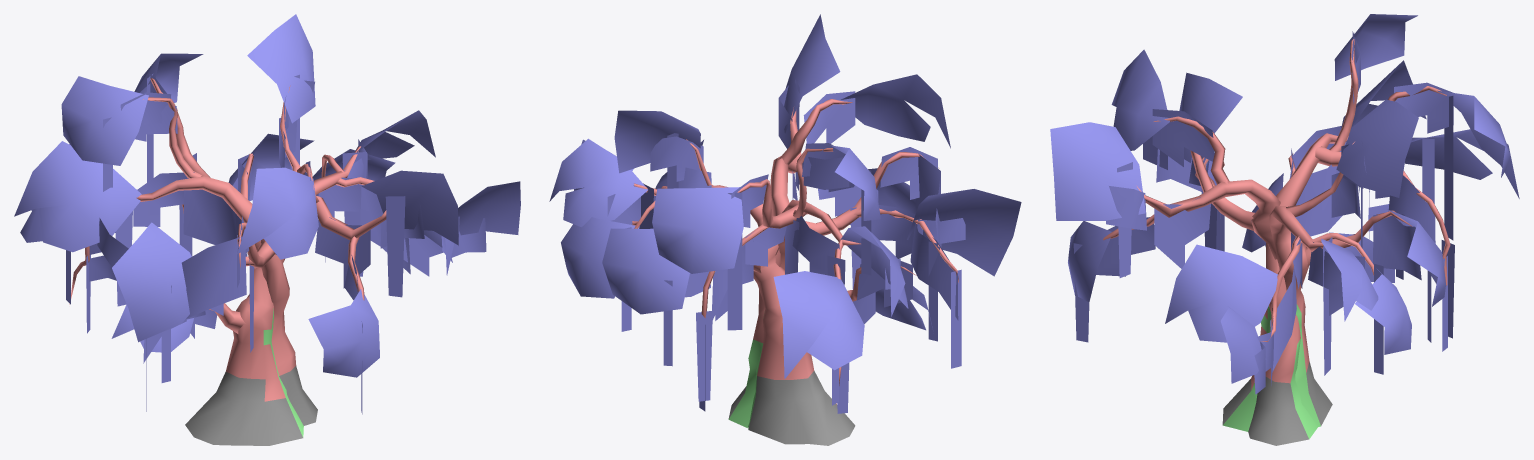
Rendered from Primitive_MDtree003.gltf.
The picture shows the model from 3 angles, left to right: view 1: azimuth 30°, elevation 25°; view 2: azimuth 150°, elevation 25°; view 3: azimuth 270°, elevation 25°; orthographic projection. The views are drawn at different scales.
Visible parts, largest first — view 1: Primitive_MDtree003; view 2: Primitive_MDtree003; view 3: Primitive_MDtree003.
Boxes of the visible parts, left/top/right/bottom form: Primitive_MDtree003: left=14, top=14, right=520, bottom=445; Primitive_MDtree003: left=549, top=14, right=1021, bottom=445; Primitive_MDtree003: left=1050, top=14, right=1519, bottom=445.
Bounding box in the file's own units: 24.28 × 18.06 × 21.83.
